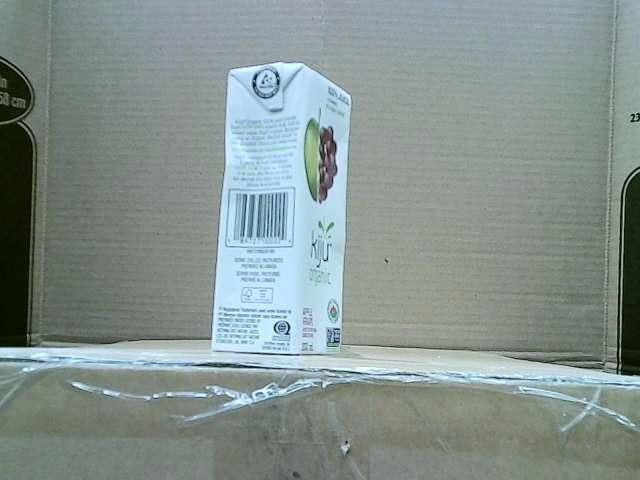JuiceBox: (210, 61, 353, 356)
